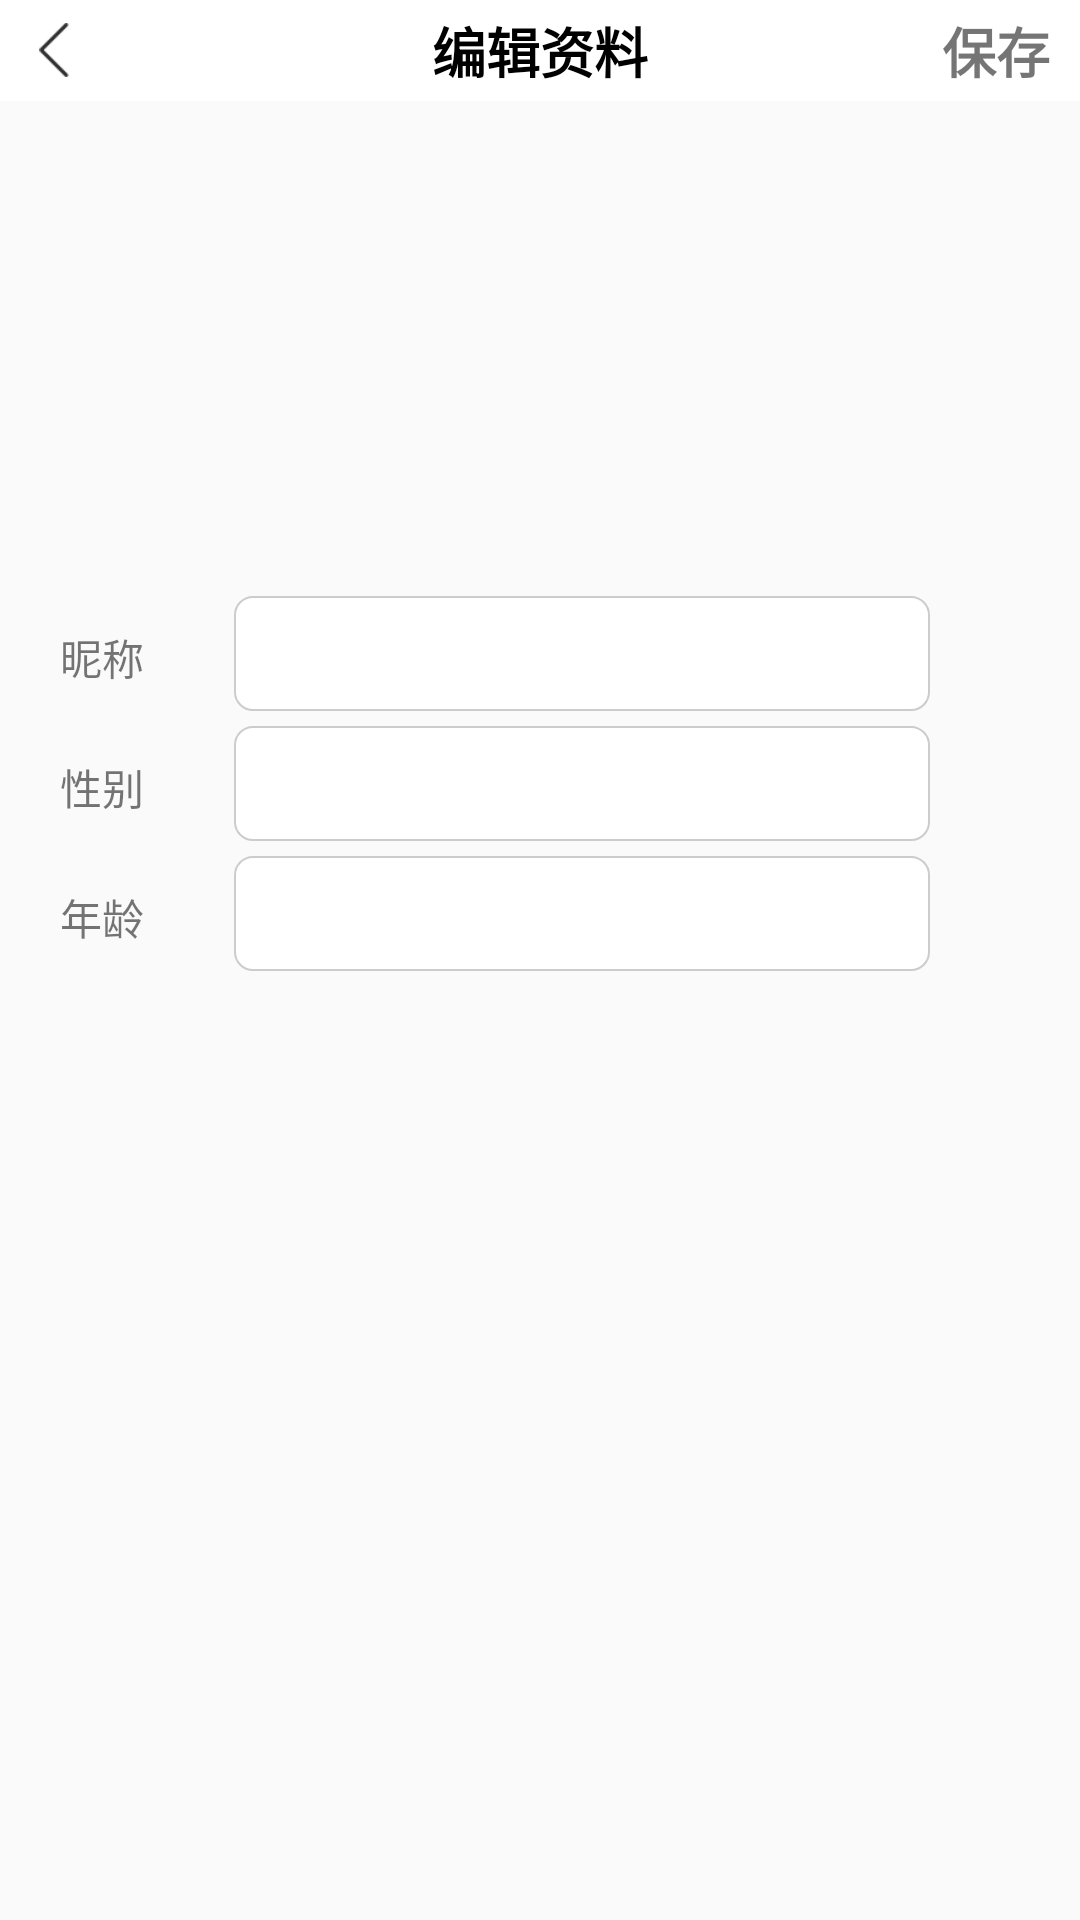

Locate icon controls on the screen. Image size 1080 × 1920, boxes as bbox(x1, y1, x2, y2).
back: bbox(39, 23, 69, 77)
